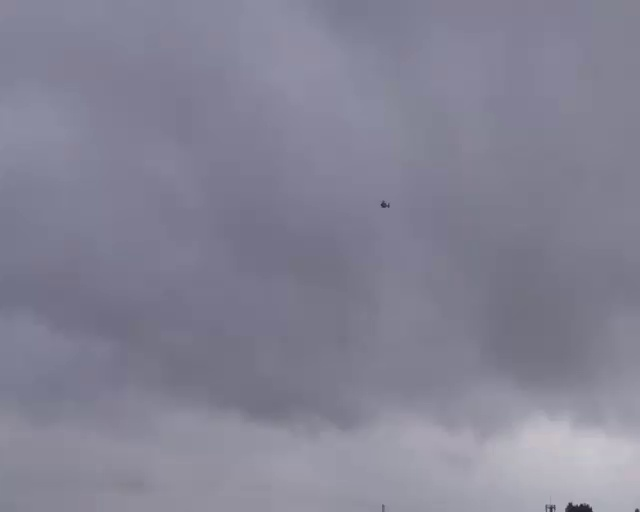HELICOPTER: (381, 200, 390, 208)
